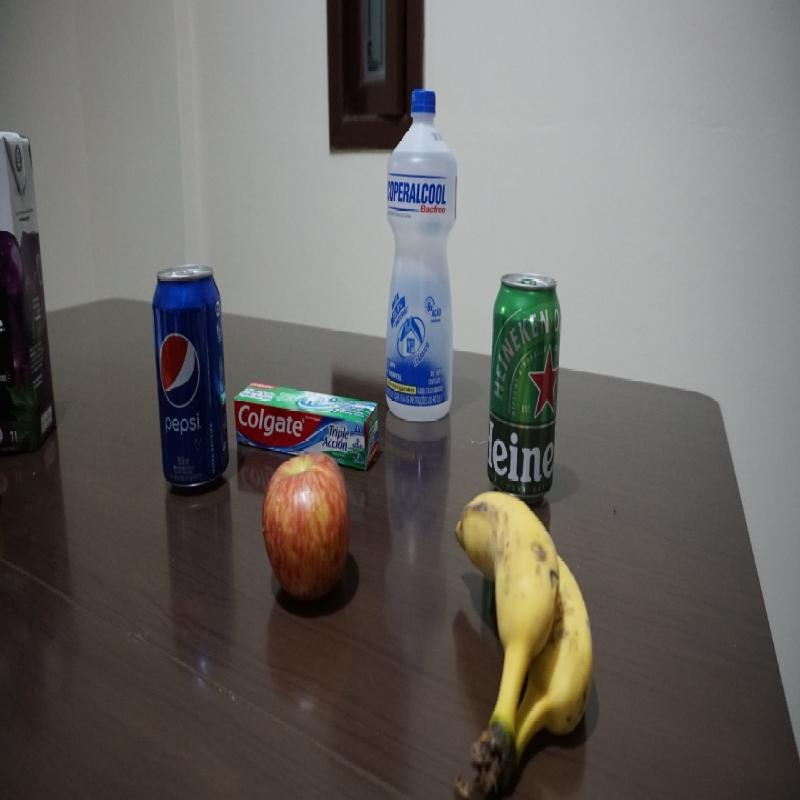Alcohol Bottle: (385, 88, 460, 424)
Apple: (261, 453, 349, 606)
Banana: (454, 491, 598, 798)
Beer can: (487, 271, 563, 507)
Soda can: (151, 264, 232, 493)
Toothpaste: (233, 383, 382, 475)
